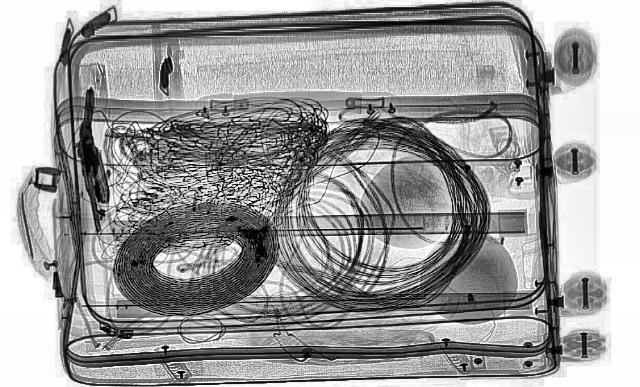Gun: (70, 86, 114, 229)
